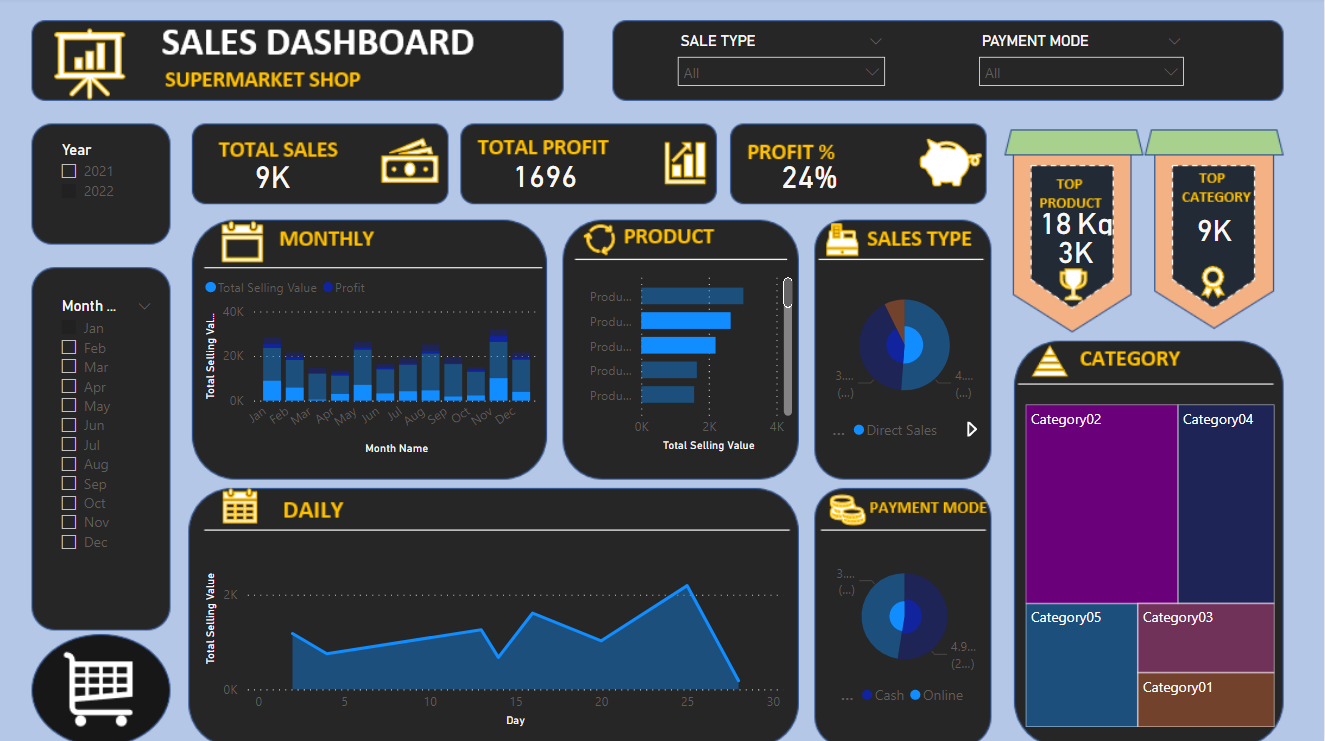

This screenshot's page, from the dashboard's own definition file:
{"tool":"powerbi","page":{"name":"Page 1","canvas":[1280,720],"ordinal":0},"visuals":[{"type":"slicer","fields":{"Values":["InputData.SALE TYPE"]},"box":[646.4,28.9,220.7,71.2],"z":0},{"type":"slicer","fields":{"Values":["InputData.Year"]},"box":[49.4,133.9,112.2,98.9],"z":1000},{"type":"slicer","fields":{"Values":["InputData.Month Name"]},"box":[49.4,284.6,112.2,295.5],"z":2000},{"type":"slicer","fields":{"Values":["InputData.PAYMENT MODE"]},"box":[937.1,28.9,218.3,71.2],"z":3000},{"type":"card","fields":{"Values":["Sum(InputData.Total Selling Value)"]},"box":[195.4,150.8,141.1,42.2],"z":4000},{"type":"card","fields":{"Values":["InputData.Profit"]},"box":[443.8,143.5,170.1,55.5],"z":5000},{"type":"card","fields":{"Values":["InputData.Profit %"]},"box":[716.4,150.8,135.1,42.2],"z":6000},{"type":"card","fields":{"Values":["Sum(InputData.Total Selling Value)"]},"box":[1009.4,226.7,62.7,37.4],"z":7000},{"type":"card","fields":{"Values":["Sum(InputData.QUANTITY)"]},"box":[996.2,194.2,50.7,45.8],"z":8000},{"type":"card","fields":{"Values":["Sum(InputData.Total Selling Value)"]},"box":[1136.1,183.3,77.2,80.8],"z":9000},{"type":"card","fields":{"Values":["Min(InputData.MasterData.UOM)"]},"box":[1034.8,199,49.4,36.2],"z":10000},{"type":"columnChart","fields":{"Category":["InputData.Month Name"],"Y":["Sum(InputData.Total Selling Value)","InputData.Profit"]},"box":[195.4,260.5,332.9,185.7],"z":11000},{"type":"clusteredBarChart","fields":{"Category":["InputData.MasterData.PRODUCT"],"Y":["Sum(InputData.Total Selling Value)"]},"box":[553.6,258.1,218.3,185.7],"z":12000},{"type":"areaChart","fields":{"Y":["Sum(InputData.Total Selling Value)"],"Category":["InputData.Day"]},"box":[195.4,517.4,568,191.8],"z":13000},{"type":"pieChart","fields":{"Y":["Sum(InputData.Total Selling Value)"],"Category":["InputData.SALE TYPE"]},"box":[800.8,264.1,149.5,172.5],"z":14000},{"type":"pieChart","fields":{"Y":["Sum(InputData.Total Selling Value)"],"Category":["InputData.PAYMENT MODE"]},"box":[800.8,531.9,149.5,160.4],"z":15000},{"type":"treemap","fields":{"Group":["InputData.MasterData.CATEGORY"],"Values":["Sum(InputData.Total Selling Value)"]},"box":[987.7,388.3,249.6,320.8],"z":16000}]}

Visuals, with their boxes in screenshot pixels (x1, y1, x2, y2), scaled from the page's 1280x720 canvas onto the 1325x741 screenshot:
slicer - InputData.SALE TYPE: locate(669, 30, 898, 103)
slicer - InputData.Year: locate(51, 138, 167, 240)
slicer - InputData.Month Name: locate(51, 293, 167, 597)
slicer - InputData.PAYMENT MODE: locate(970, 30, 1196, 103)
card - Sum(InputData.Total Selling Value): locate(202, 155, 348, 199)
card - InputData.Profit: locate(459, 148, 635, 205)
card - InputData.Profit %: locate(742, 155, 881, 199)
card - Sum(InputData.Total Selling Value): locate(1045, 233, 1110, 272)
card - Sum(InputData.QUANTITY): locate(1031, 200, 1084, 247)
card - Sum(InputData.Total Selling Value): locate(1176, 189, 1256, 272)
card - Min(InputData.MasterData.UOM): locate(1071, 205, 1122, 242)
columnChart - InputData.Month Name x Sum(InputData.Total Selling Value): locate(202, 268, 547, 459)
clusteredBarChart - InputData.MasterData.PRODUCT x Sum(InputData.Total Selling Value): locate(573, 266, 799, 457)
areaChart - Sum(InputData.Total Selling Value) x InputData.Day: locate(202, 532, 790, 730)
pieChart - Sum(InputData.Total Selling Value) x InputData.SALE TYPE: locate(829, 272, 984, 449)
pieChart - Sum(InputData.Total Selling Value) x InputData.PAYMENT MODE: locate(829, 547, 984, 712)
treemap - InputData.MasterData.CATEGORY x Sum(InputData.Total Selling Value): locate(1022, 400, 1281, 730)
